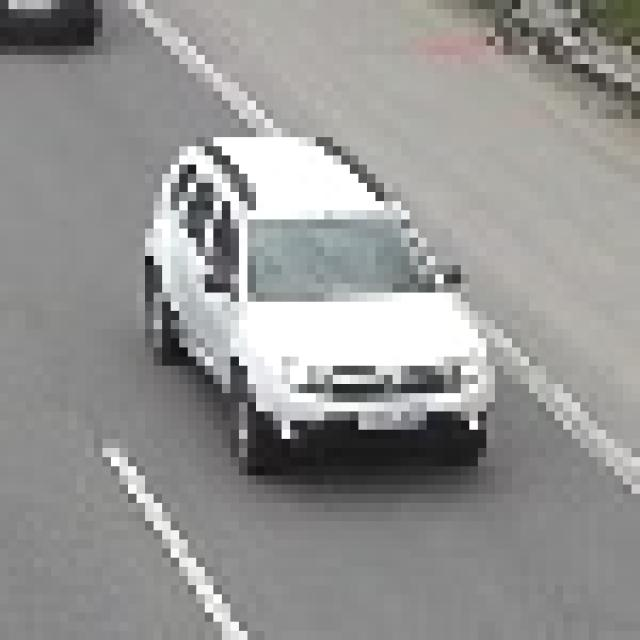SUV: (168, 137, 466, 470)
